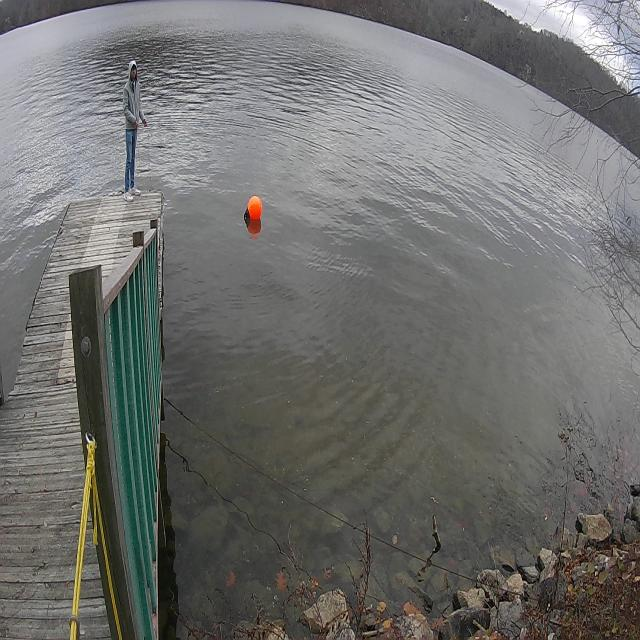Buoy: (244, 191, 265, 226)
